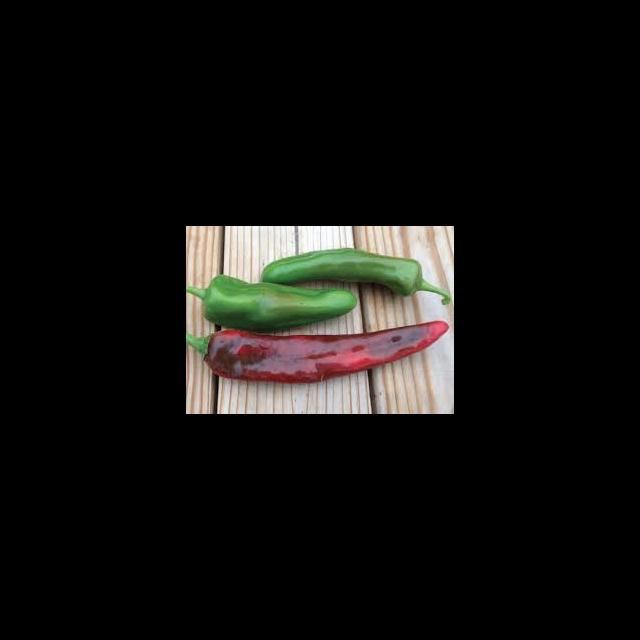chili_pepper: (186, 320, 450, 384), (259, 248, 451, 305), (186, 275, 358, 333)
